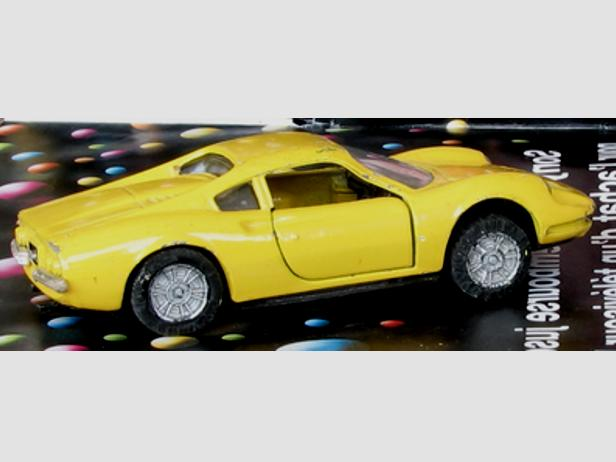toy-car: (9, 128, 598, 338)
